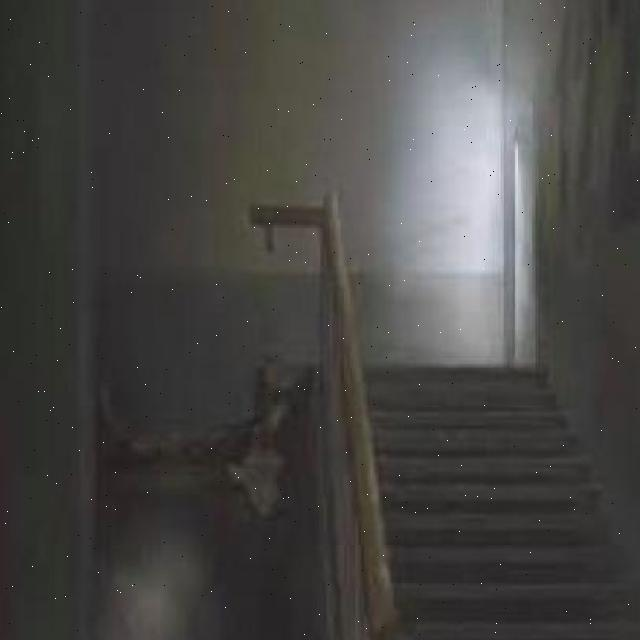stair: (355, 350, 640, 604)
